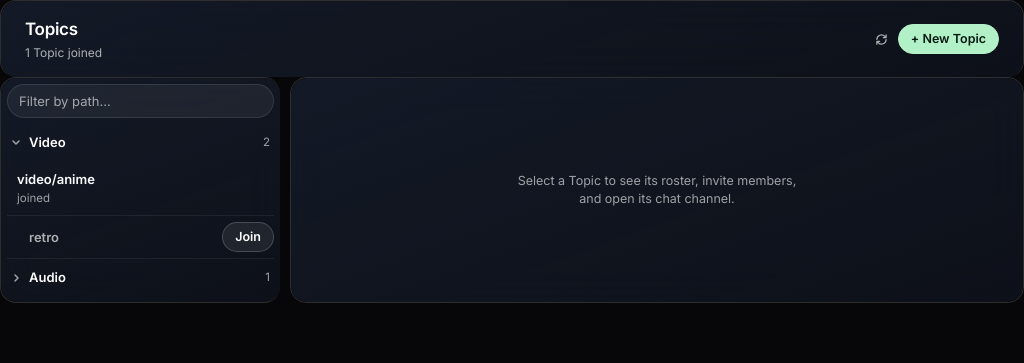
Scenario: QURATOR-144 W2 — group defaults › a group with something JOINED under it starts OPEN; a pure-discovery group starts COLLAPSED
This screenshot has width=1024, height=363.
Check: the text "video/anime" is shown, box left=17, top=171, right=95, bottom=187
Check: the text "lossless" is not shown
Click the button with class "root-header" showing "audio 1". click: (47, 277)
box: left=7, top=259, right=274, bottom=296
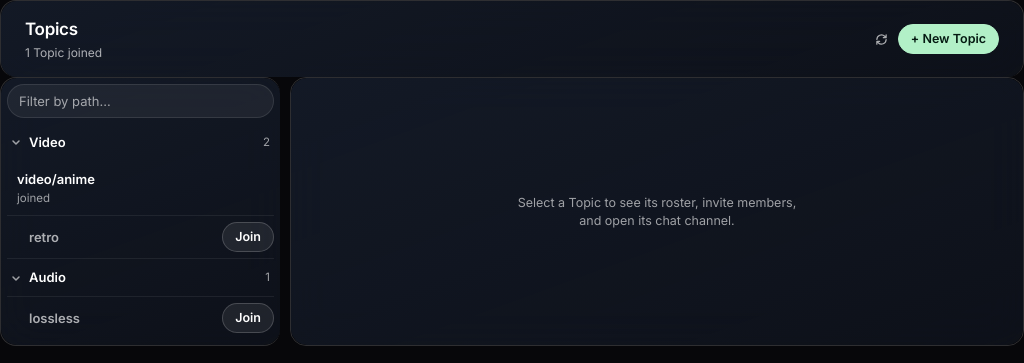
Check: the text "lossless" is shown, box left=29, top=310, right=80, bottom=326
